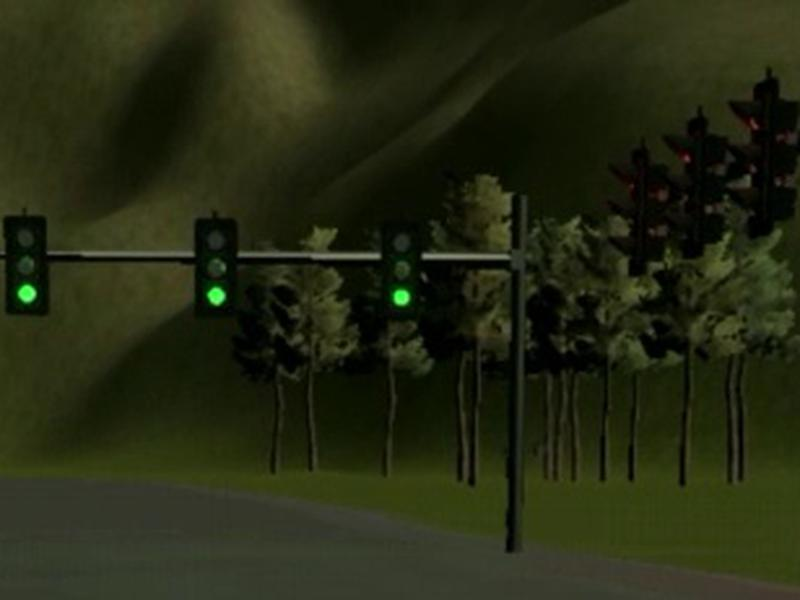Green: (4, 216, 50, 314), (195, 218, 237, 318), (384, 218, 421, 317)
